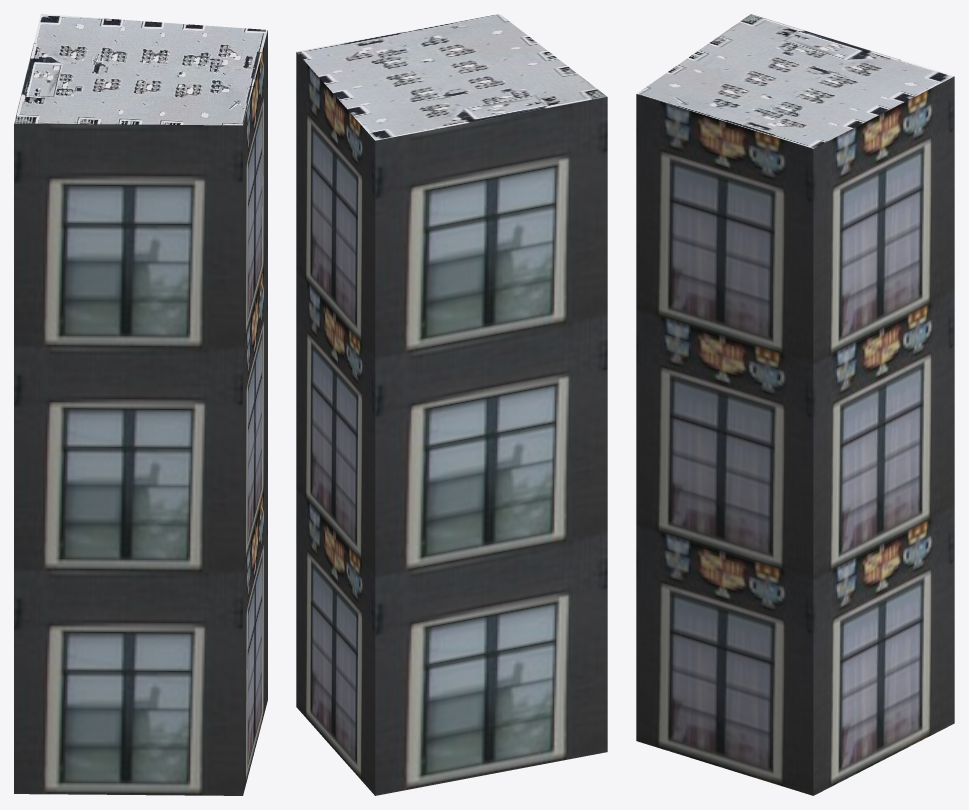
File: ResTex__616.fbx
3 views of the same model, side by side, from view 1: azimuth 30°, elevation 25°; view 2: azimuth 150°, elevation 25°; view 3: azimuth 270°, elevation 25° (orthographic). The views are drawn at different scales.
Visible parts, largest first — view 1: CityEngineMaterial_22_m, CityEngineMaterial_4_m; view 2: CityEngineMaterial_22_m, CityEngineMaterial_4_m; view 3: CityEngineMaterial_22_m, CityEngineMaterial_4_m.
Boxes of the visible parts, left/top/right/bottom form: CityEngineMaterial_22_m: left=14, top=30, right=267, bottom=795; CityEngineMaterial_4_m: left=14, top=14, right=267, bottom=125; CityEngineMaterial_22_m: left=296, top=52, right=607, bottom=795; CityEngineMaterial_4_m: left=296, top=14, right=607, bottom=140; CityEngineMaterial_22_m: left=636, top=76, right=954, bottom=795; CityEngineMaterial_4_m: left=637, top=14, right=953, bottom=148.
Bounding box in the file's own units: 4.02 × 9 × 4.01.
2 materials, 2 textured.
